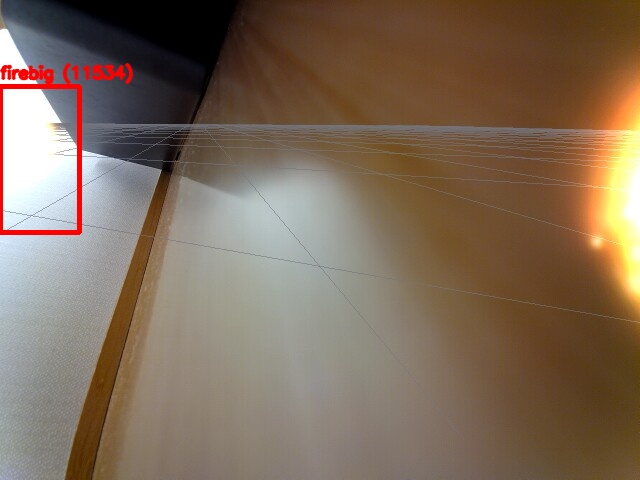firebig: (0, 86, 79, 232)
